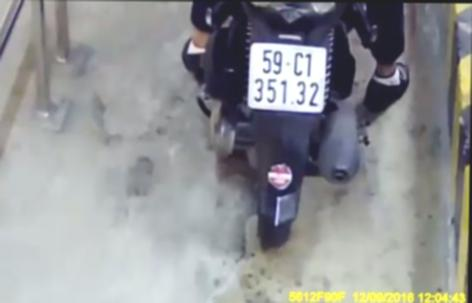License_Plate: (233, 33, 333, 121)
